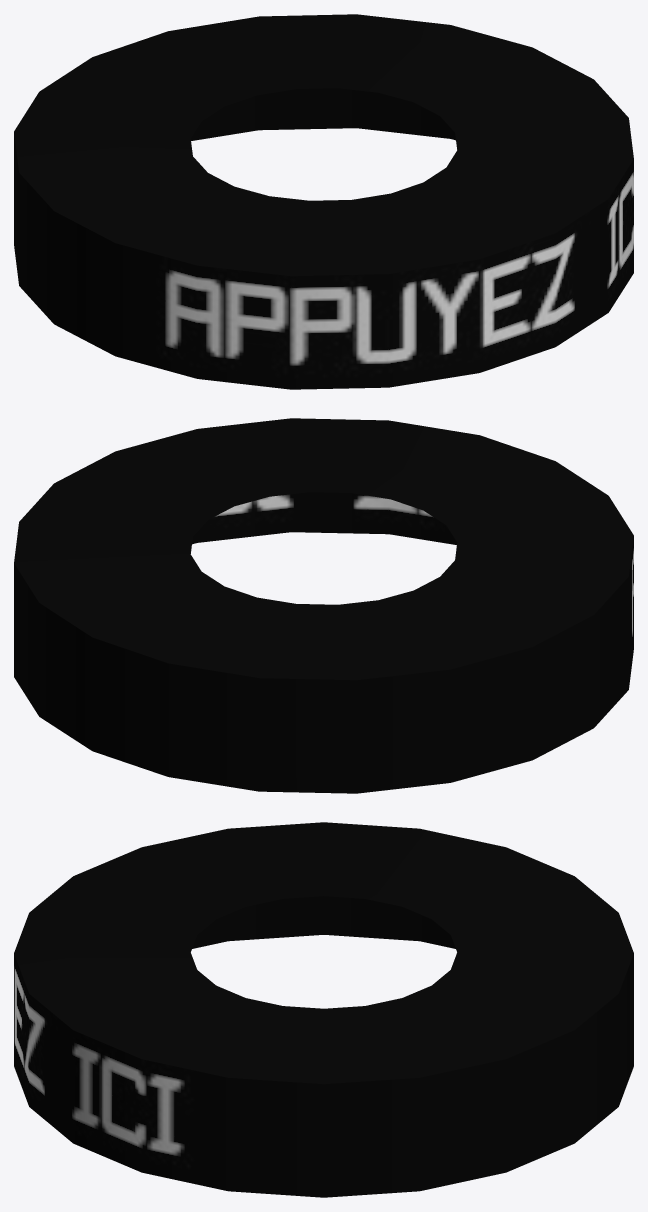
Rendered from Button_bas.fbx.
The picture shows the model from 3 angles, top to bottom: view 1: azimuth 30°, elevation 25°; view 2: azimuth 150°, elevation 25°; view 3: azimuth 270°, elevation 25°; orthographic projection.
Parts seen in each view (by area): view 1: pCylinder1; view 2: pCylinder1; view 3: pCylinder1.
Boxes of the visible parts, box(x1,y1,x2,y2) form: pCylinder1: box(14, 14, 633, 389); pCylinder1: box(14, 418, 633, 793); pCylinder1: box(14, 822, 633, 1197).
Size of the model in its own units: 2 by 0.4068 by 2.
Materials: 1 (1 with a texture image).
